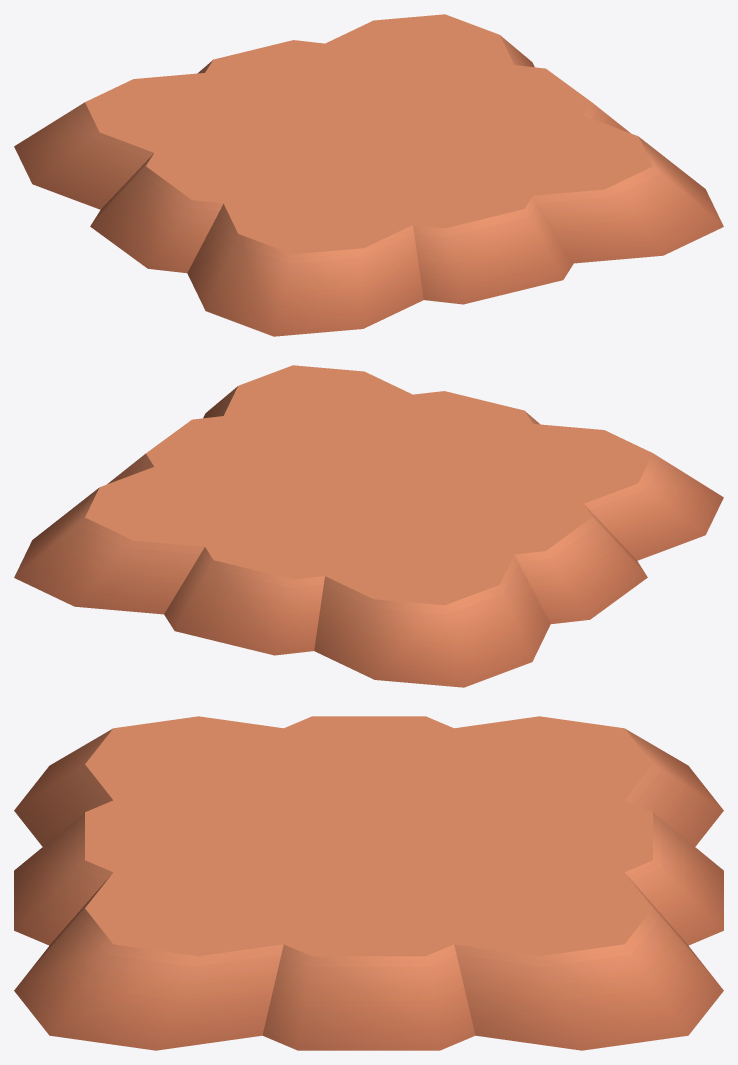
File: prop_km_patch_dirt.glb
3 renders of one model, top to bottom at view 1: azimuth 30°, elevation 25°; view 2: azimuth 150°, elevation 25°; view 3: azimuth 270°, elevation 25°, orthographic. The views are drawn at different scales.
Parts seen in each view (by area): view 1: patch-dirt; view 2: patch-dirt; view 3: patch-dirt.
Part boxes in pixels (x1,y1,x2,y2): patch-dirt: [14, 14, 723, 336]; patch-dirt: [14, 365, 723, 687]; patch-dirt: [14, 716, 723, 1050].
Bounding box in the file's own units: 1 × 0.1 × 1.
Materials: 1 (1 with a texture image).
